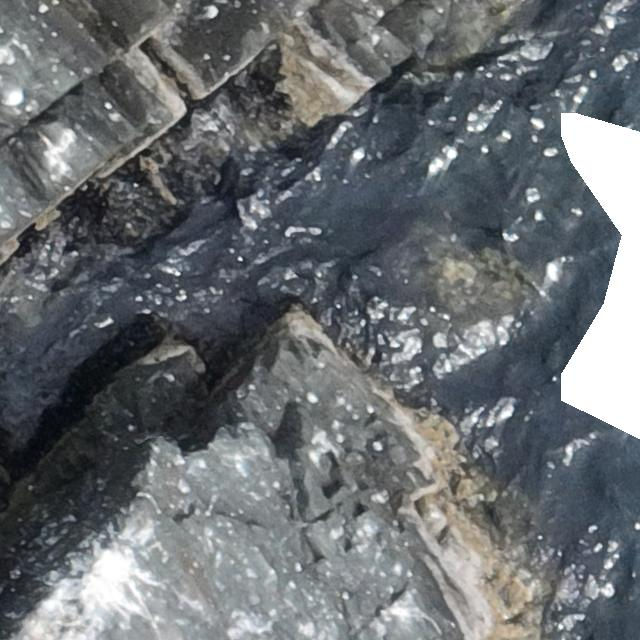umineko: (38, 121, 76, 146), (1, 78, 27, 109)
